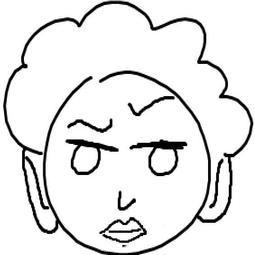cupid_mouth: (99, 217, 149, 244)
empty_eye: (142, 138, 184, 186), (65, 142, 107, 179)
eyebrow: (63, 109, 116, 135)
frowning_eyebrow: (120, 90, 178, 116)
large_ear: (18, 145, 66, 242), (198, 151, 233, 231)
nose: (114, 188, 136, 215)
